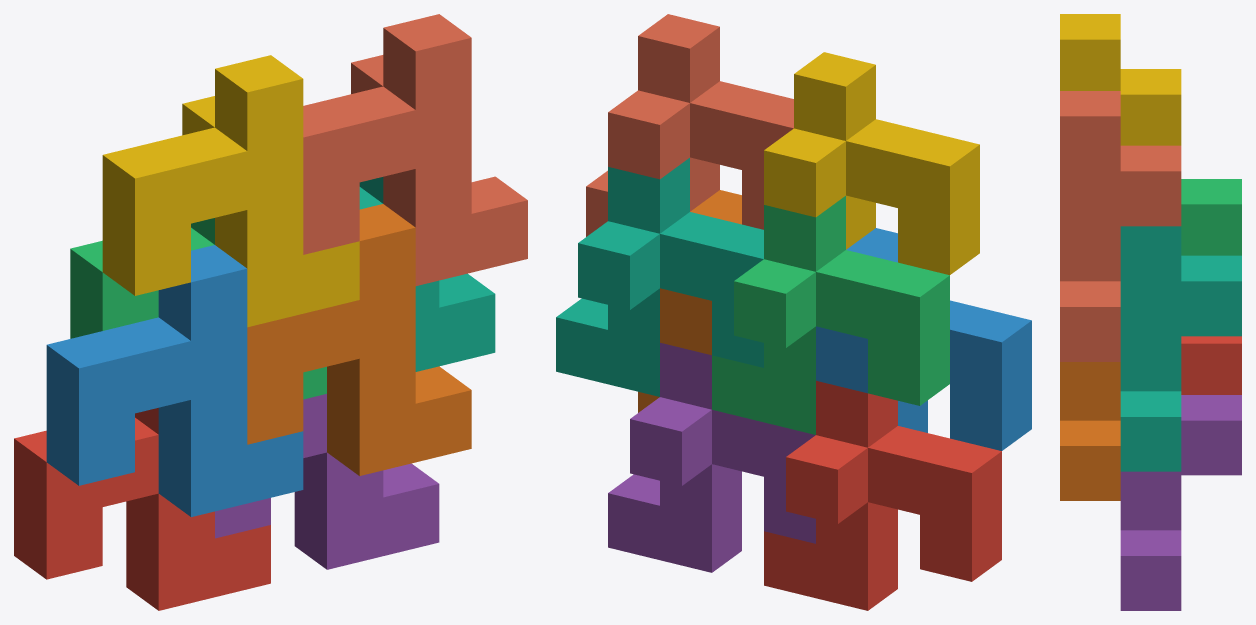
File: tiling.obj
The picture shows the model from 3 angles, left to right: view 1: azimuth 30°, elevation 25°; view 2: azimuth 150°, elevation 25°; view 3: azimuth 270°, elevation 25°; orthographic projection. The views are drawn at different scales.
Parts seen in each view (by area): view 1: copy_1_domain_4, copy_1_domain_2, copy_1_domain_8, copy_1_domain_6, copy_1_domain_1, copy_1_domain_5, copy_1_domain_7, copy_1_domain_3; view 2: copy_1_domain_1, copy_1_domain_3, copy_1_domain_4, copy_1_domain_7, copy_1_domain_5, copy_1_domain_8, copy_1_domain_2, copy_1_domain_6; view 3: copy_1_domain_8, copy_1_domain_7, copy_1_domain_5, copy_1_domain_4, copy_1_domain_6, copy_1_domain_3, copy_1_domain_1.
Part boxes in pixels (x1=…): copy_1_domain_4: x1=102, y1=55, x2=359, y2=327; copy_1_domain_2: x1=46, y1=245, x2=303, y2=517; copy_1_domain_8: x1=303, y1=14, x2=527, y2=285; copy_1_domain_6: x1=247, y1=204, x2=471, y2=475; copy_1_domain_1: x1=14, y1=408, x2=270, y2=610; copy_1_domain_5: x1=215, y1=394, x2=439, y2=569; copy_1_domain_7: x1=359, y1=177, x2=495, y2=371; copy_1_domain_3: x1=70, y1=218, x2=326, y2=399; copy_1_domain_1: x1=764, y1=380, x2=1001, y2=610; copy_1_domain_3: x1=712, y1=196, x2=949, y2=434; copy_1_domain_4: x1=764, y1=52, x2=979, y2=275; copy_1_domain_7: x1=556, y1=158, x2=763, y2=396; copy_1_domain_5: x1=608, y1=342, x2=815, y2=572; copy_1_domain_8: x1=586, y1=14, x2=793, y2=236; copy_1_domain_2: x1=816, y1=228, x2=1031, y2=450; copy_1_domain_6: x1=638, y1=190, x2=741, y2=412; copy_1_domain_8: x1=1060, y1=91, x2=1181, y2=361; copy_1_domain_7: x1=1120, y1=226, x2=1241, y2=471; copy_1_domain_5: x1=1120, y1=395, x2=1241, y2=610; copy_1_domain_4: x1=1060, y1=14, x2=1181, y2=145; copy_1_domain_6: x1=1060, y1=362, x2=1120, y2=500; copy_1_domain_3: x1=1181, y1=179, x2=1241, y2=255; copy_1_domain_1: x1=1181, y1=336, x2=1241, y2=394.
Size of the model in its own units: 8 by 9 by 3.
